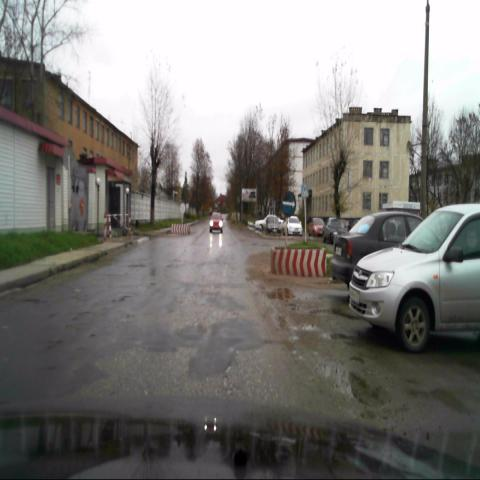4_1_2_1: (282, 191, 296, 216)
